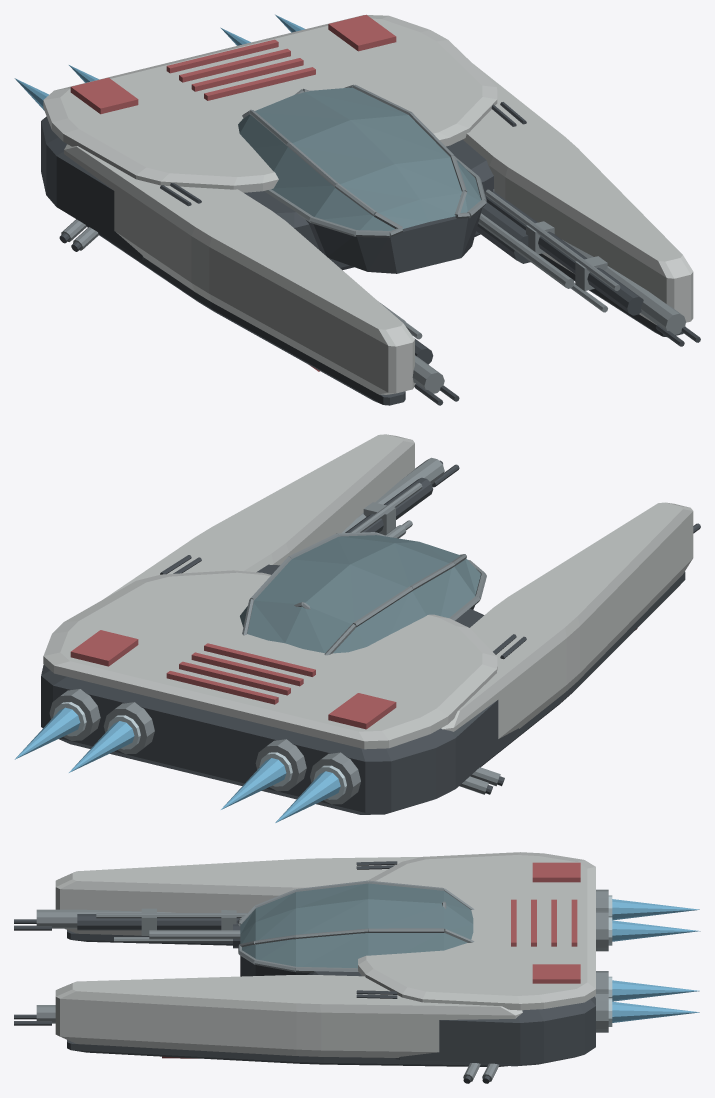
The model's file is x6_white_flight.glb.
The picture shows the model from 3 angles, top to bottom: view 1: azimuth 30°, elevation 25°; view 2: azimuth 150°, elevation 25°; view 3: azimuth 270°, elevation 25°; orthographic projection. The views are drawn at different scales.
Parts seen in each view (by area): view 1: material_1, material_4, material_0, material_2, material_3, material_6; view 2: material_1, material_0, material_4, material_2, material_3, material_6, material_5; view 3: material_1, material_0, material_4, material_2, material_6, material_3, material_5.
Part boxes in pixels (x1,y1,x2,y2): material_1: (43,15,693,394); material_4: (238,87,480,230); material_0: (41,102,700,405); material_2: (61,84,685,393); material_3: (70,14,396,371); material_6: (14,14,305,110); material_1: (43,434,693,749); material_0: (41,460,700,814); material_4: (240,535,480,653); material_2: (49,457,500,804); material_3: (70,628,637,729); material_6: (14,707,340,822); material_5: (53,702,346,799); material_1: (55,852,595,1057); material_0: (14,861,595,1083); material_4: (240,883,473,968); material_2: (36,880,608,1081); material_6: (612,899,700,1022); material_3: (162,862,580,1058); material_5: (608,895,612,1026).
Bounding box in the file's own units: 3.18 × 0.8789 × 5.43.
